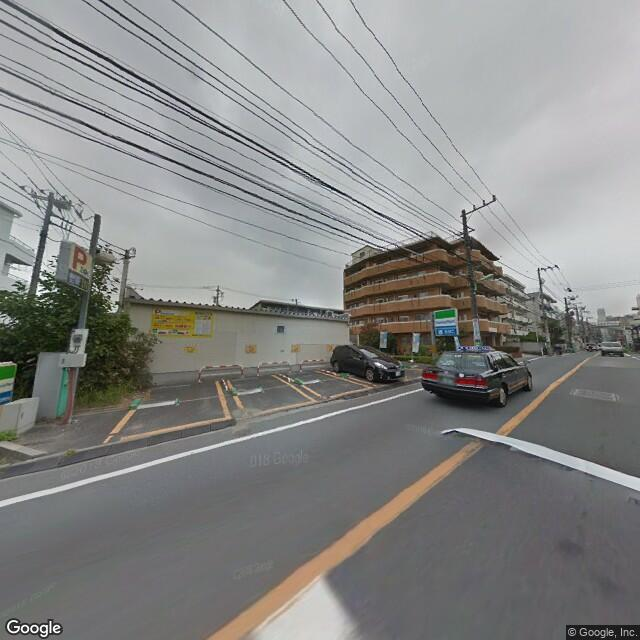family_mart: (431, 308, 459, 340)
